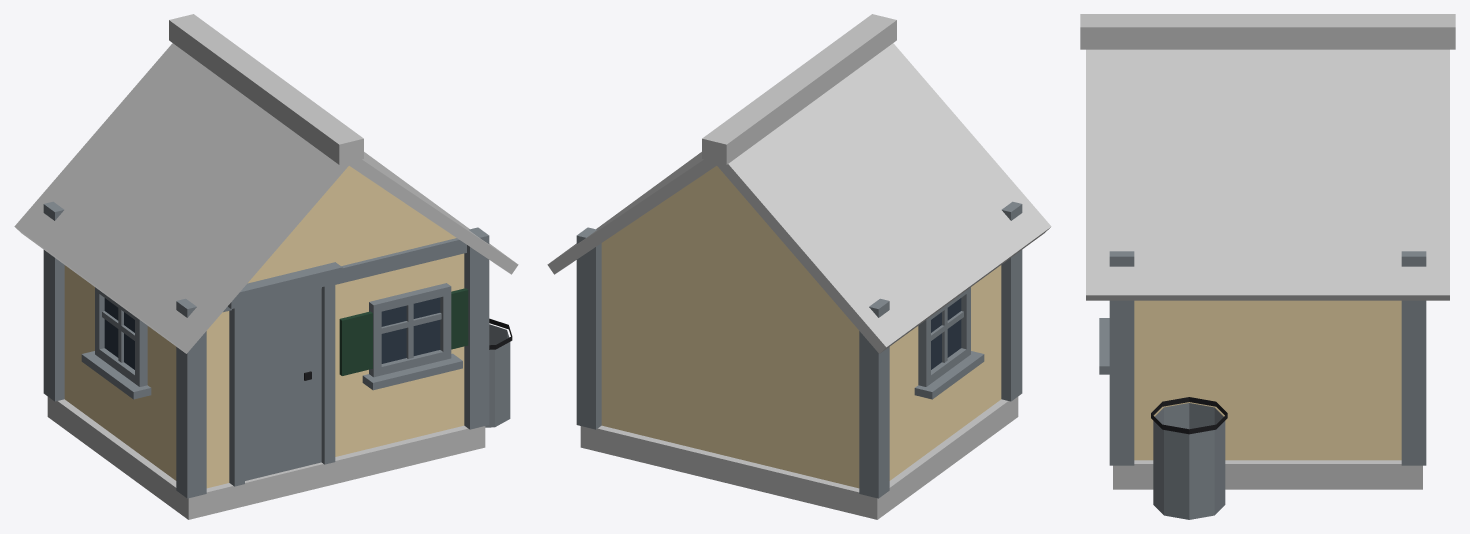
Rendered from garden_shed.gltf.
3 views of the same model, side by side, from view 1: azimuth 30°, elevation 25°; view 2: azimuth 150°, elevation 25°; view 3: azimuth 270°, elevation 25° (orthographic). The views are drawn at different scales.
Parts seen in each view (by area): view 1: garden_shed; view 2: garden_shed; view 3: garden_shed.
Boxes of the visible parts, box(x1,y1,x2,y2) form: garden_shed: box(14, 14, 518, 519); garden_shed: box(547, 14, 1051, 519); garden_shed: box(1080, 14, 1455, 519).
Size of the model in its own units: 4.26 by 3.82 by 3.34.
